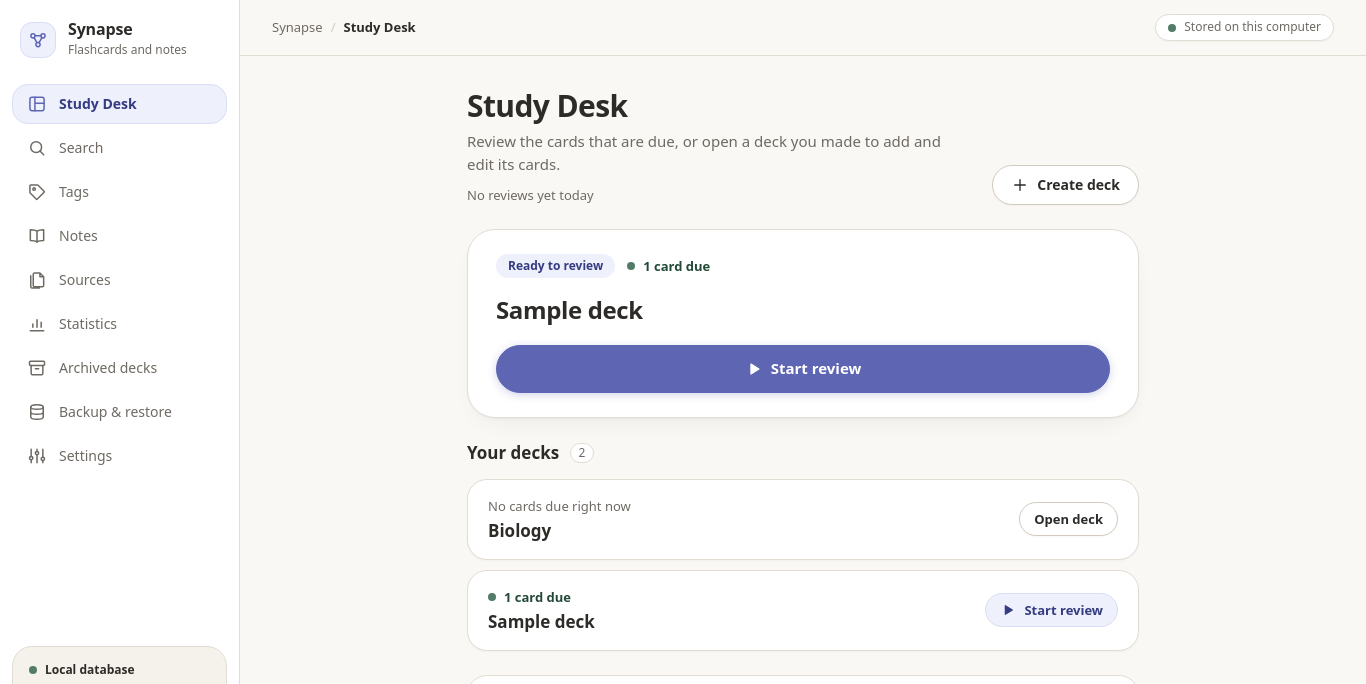
Test case: importing cards from a file › names the line of a card Rust refuses, and keeps the preview
Check: the button "Create deck" is shown, box [992,165,1139,205]
Click the button "Backup & restore".
click(120, 412)  # box [12,392,227,432]
(page scrolled)
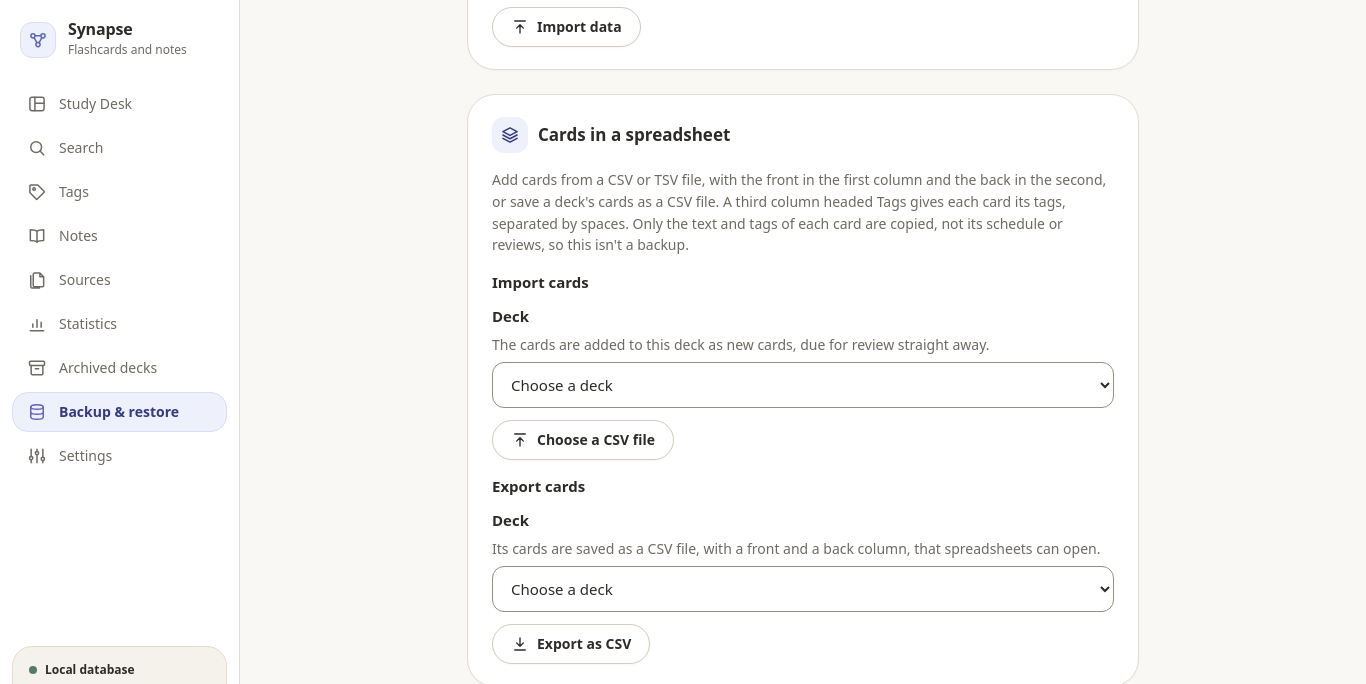
Check: the heading "Cards in a spreadsheet" is shown, box [538,124,730,147]
Select "Biology" in the dropdown labelled "Deck" below "Import cards" at (803, 385), box [492,362,1114,408]
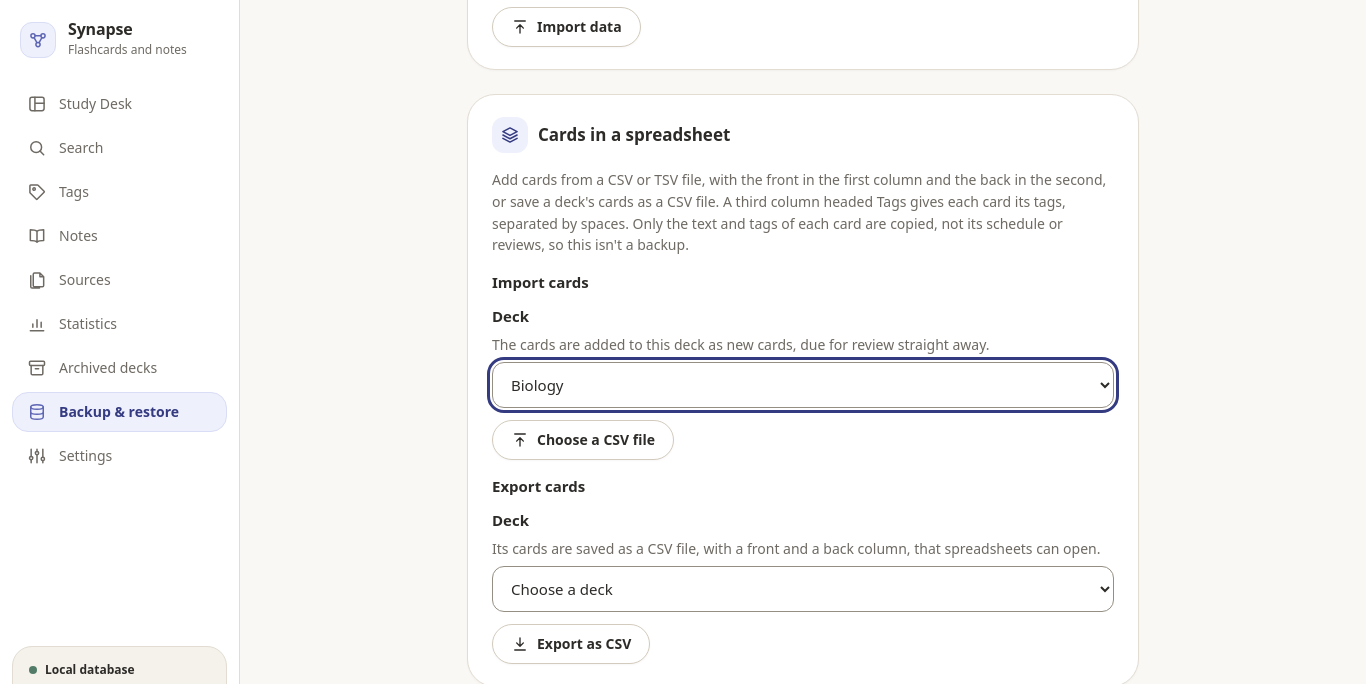
Click the button "Choose a CSV file".
click(583, 440)  # box [492,420,674,460]
(page scrolled)
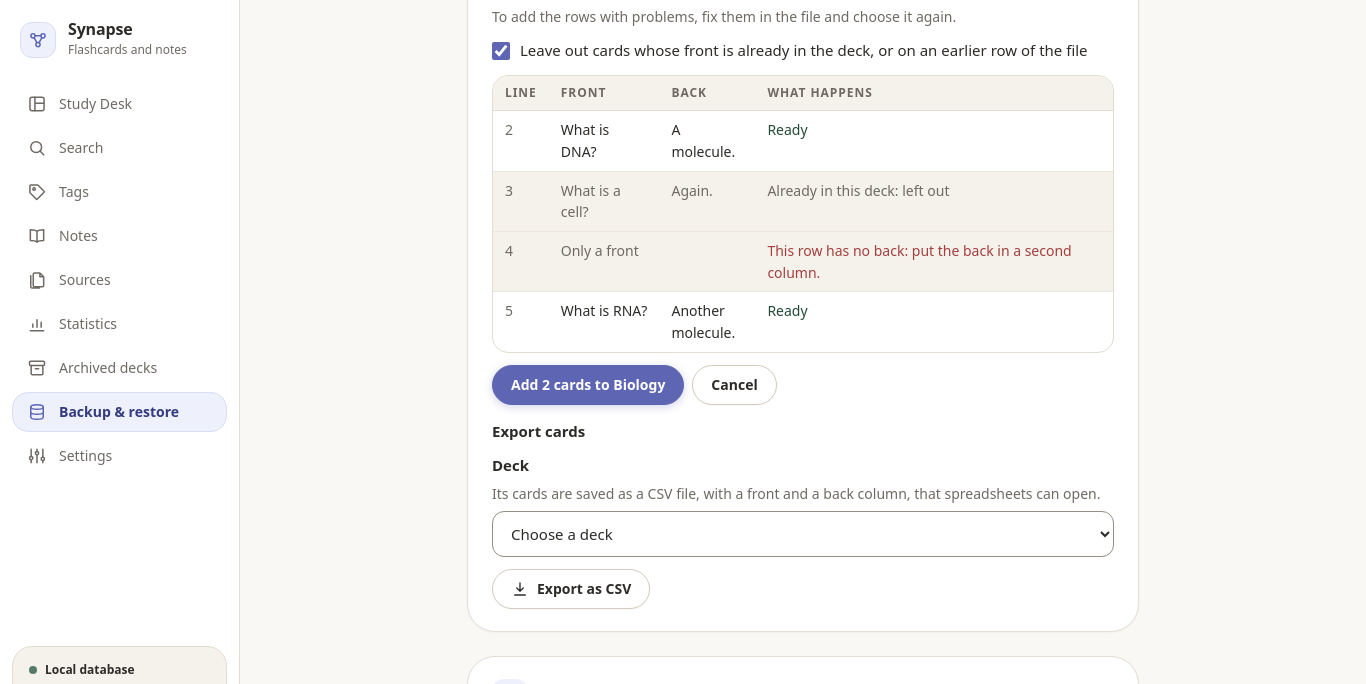
Click the button "Add 2 cards to Biology".
click(588, 385)  # box [492,365,684,405]
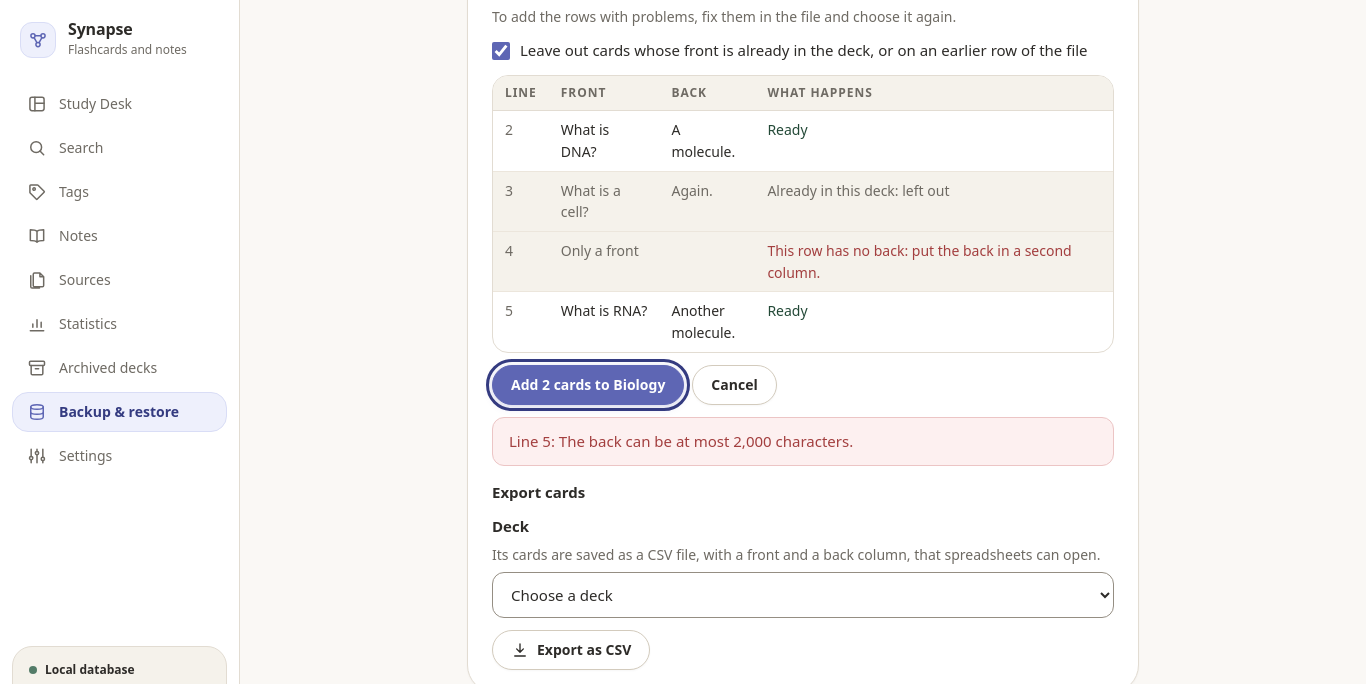
Check: the table is shown, box [493,76,1113,352]
Check: the message reads "Line 5: The back can be at most 2,000 characters.", box [509,431,853,451]
